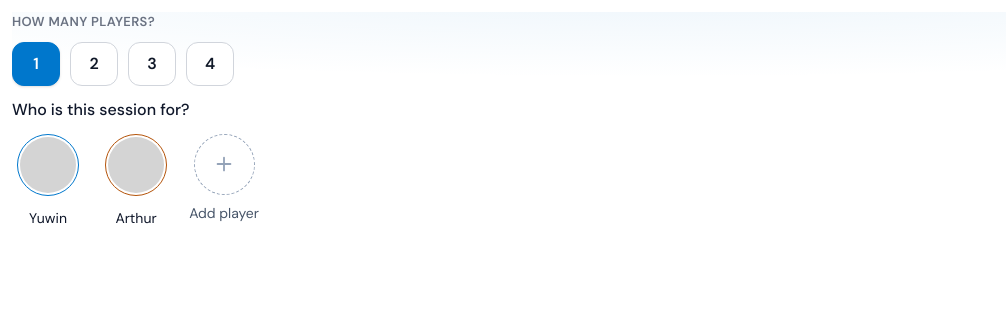
Test: AuthedPlayerPicker — group mode › toggles child avatars, dims at the cap, and hides "+" at max
Step 1. Click the button with test id "player-count-2" → (94, 64), box [70,42,118,86]
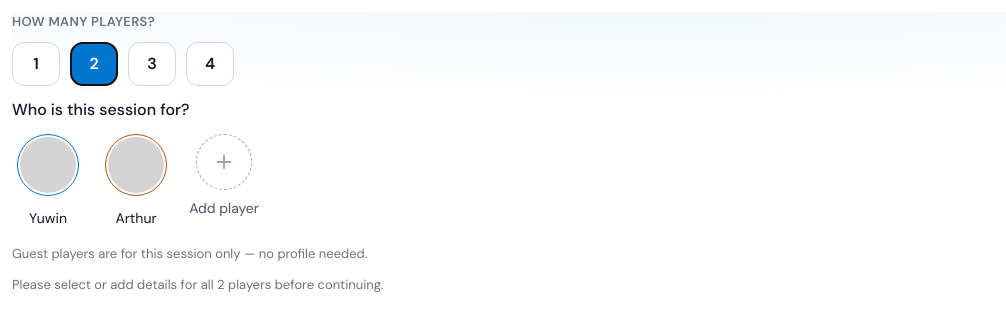
Step 2. Click the button "Yuwin" → (48, 180), box [12,134,84,228]
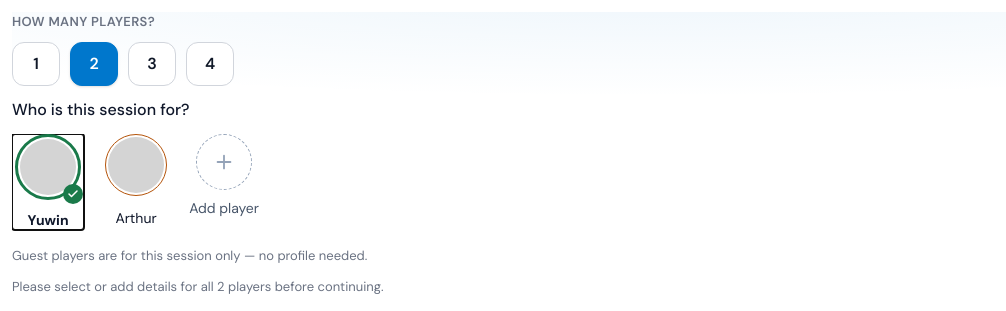
Step 3. Click the button "Arthur" → (136, 180), box [100,134,172,228]
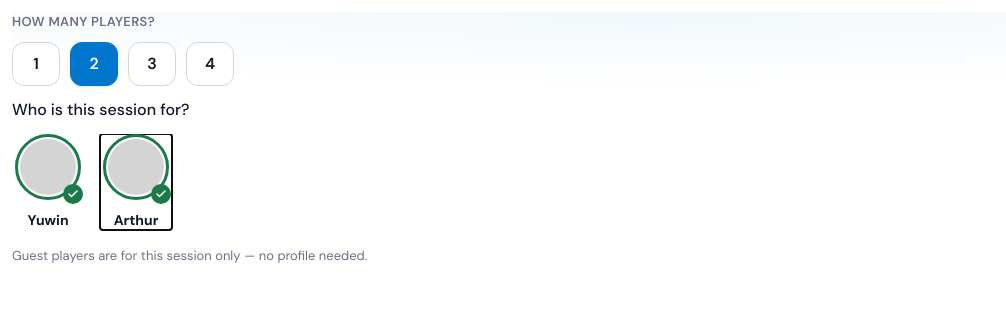
expect the button with test id "add-guest-player" is gone: met
Note: Deselect Arthur → cap lifts, "+" returns.
Step 4. Click the button "Arthur" → (136, 182), box [100,134,172,230]
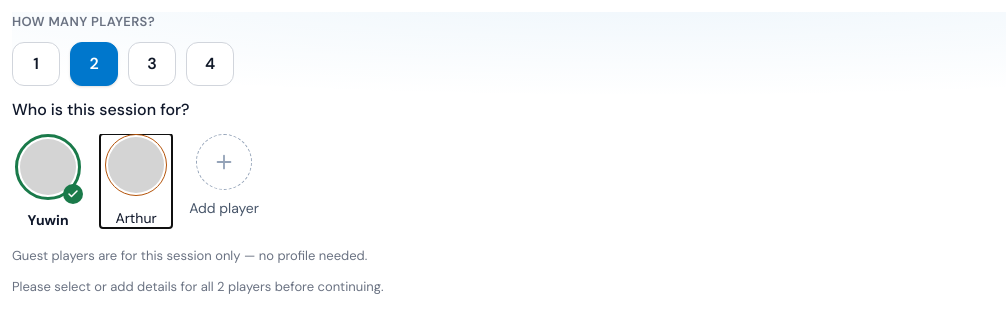
expect the button with test id "add-guest-player" is shown: met, box [188,134,260,218]
